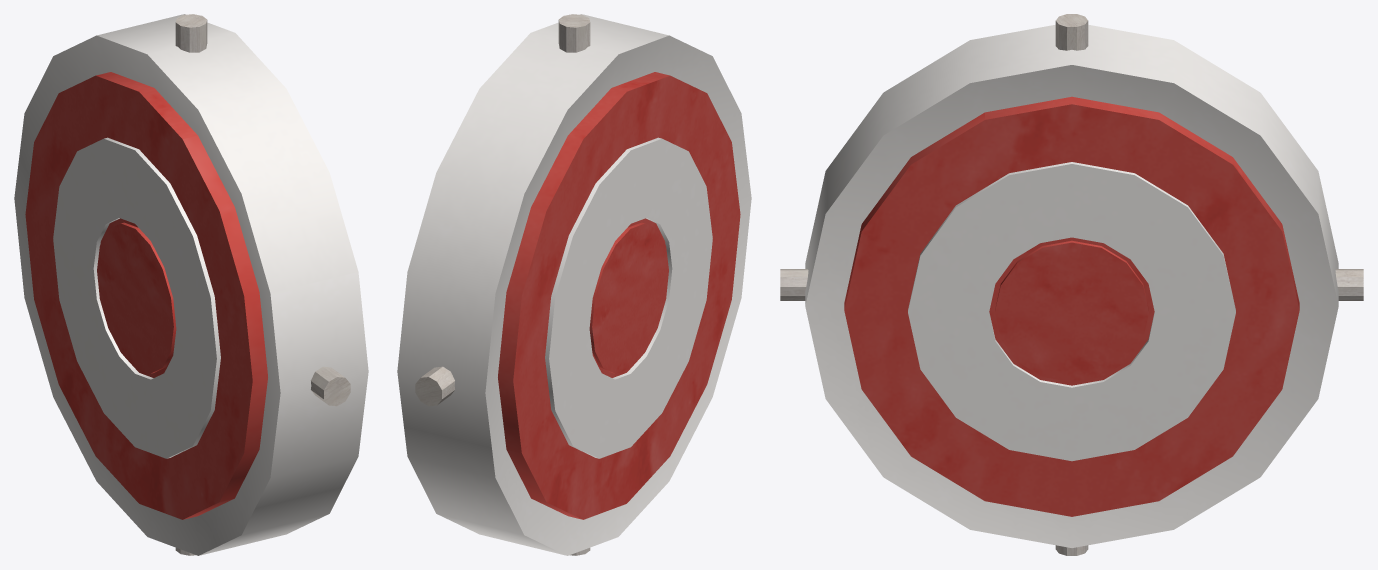
File: target-v2.glb
The picture shows the model from 3 angles, left to right: view 1: azimuth 30°, elevation 25°; view 2: azimuth 150°, elevation 25°; view 3: azimuth 270°, elevation 25°; orthographic projection.
Parts seen in each view (by area): view 1: Cylinder, Cylinder.001, Cylinder.002, Cylinder.003, Cylinder.006, Cylinder.004; view 2: Cylinder, Cylinder.001, Cylinder.002, Cylinder.003, Cylinder.005, Cylinder.004; view 3: Cylinder.001, Cylinder, Cylinder.002, Cylinder.003, Cylinder.004, Cylinder.005, Cylinder.006.
Boxes of the visible parts, left/top/right/bottom form: Cylinder: left=14, top=14, right=368, bottom=555; Cylinder.001: left=25, top=72, right=267, bottom=519; Cylinder.002: left=53, top=137, right=220, bottom=458; Cylinder.003: left=97, top=222, right=176, bottom=373; Cylinder.006: left=311, top=366, right=350, bottom=406; Cylinder.004: left=175, top=14, right=207, bottom=52; Cylinder: left=397, top=14, right=751, bottom=555; Cylinder.001: left=498, top=72, right=740, bottom=519; Cylinder.002: left=545, top=137, right=712, bottom=458; Cylinder.003: left=589, top=222, right=668, bottom=373; Cylinder.005: left=415, top=366, right=454, bottom=406; Cylinder.004: left=558, top=14, right=590, bottom=52; Cylinder.001: left=844, top=96, right=1299, bottom=516; Cylinder: left=805, top=24, right=1338, bottom=547; Cylinder.002: left=908, top=162, right=1235, bottom=461; Cylinder.003: left=995, top=240, right=1148, bottom=382; Cylinder.004: left=1055, top=14, right=1088, bottom=50; Cylinder.005: left=1335, top=269, right=1363, bottom=300; Cylinder.006: left=780, top=269, right=808, bottom=300.
Size of the model in its own units: 0.4896 by 2.19 by 2.19.
Materials: 1 (1 with a texture image).
